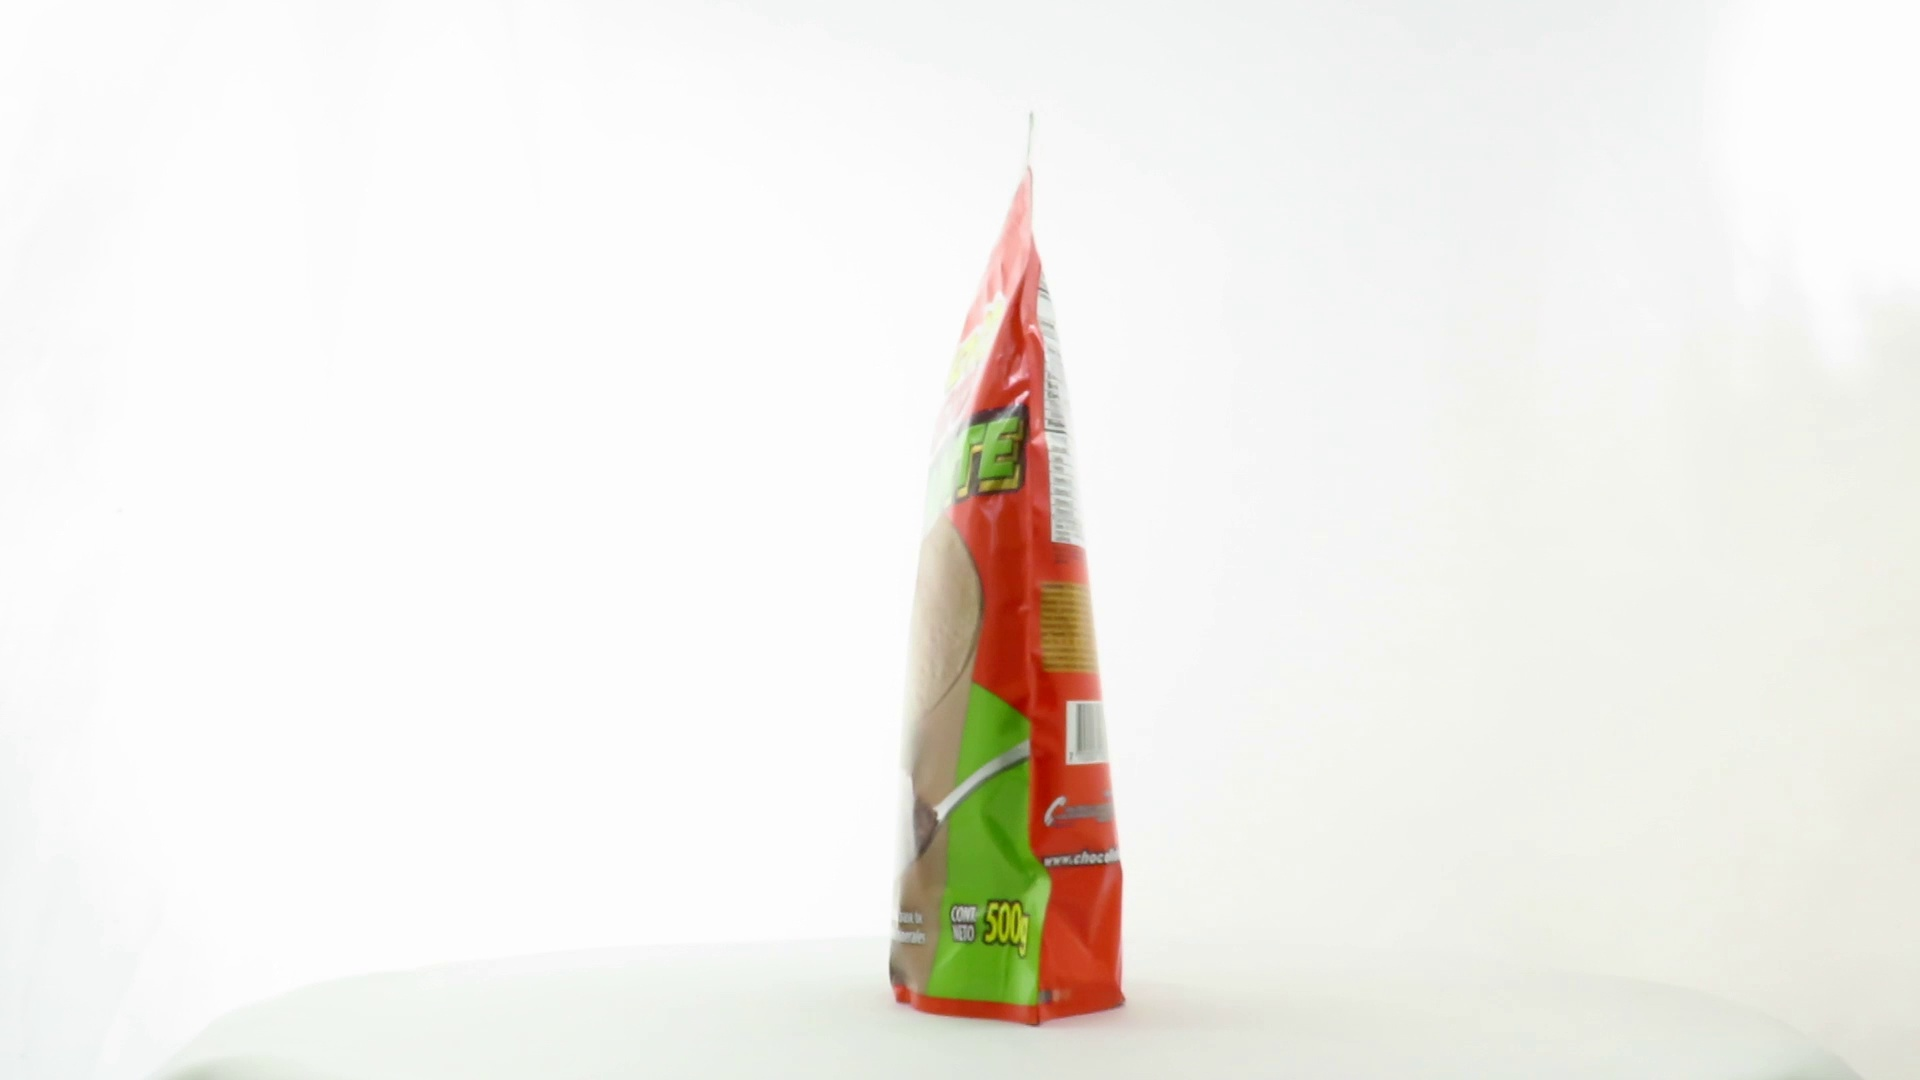COL0170102DYP50000: (884, 160, 1131, 1033)
